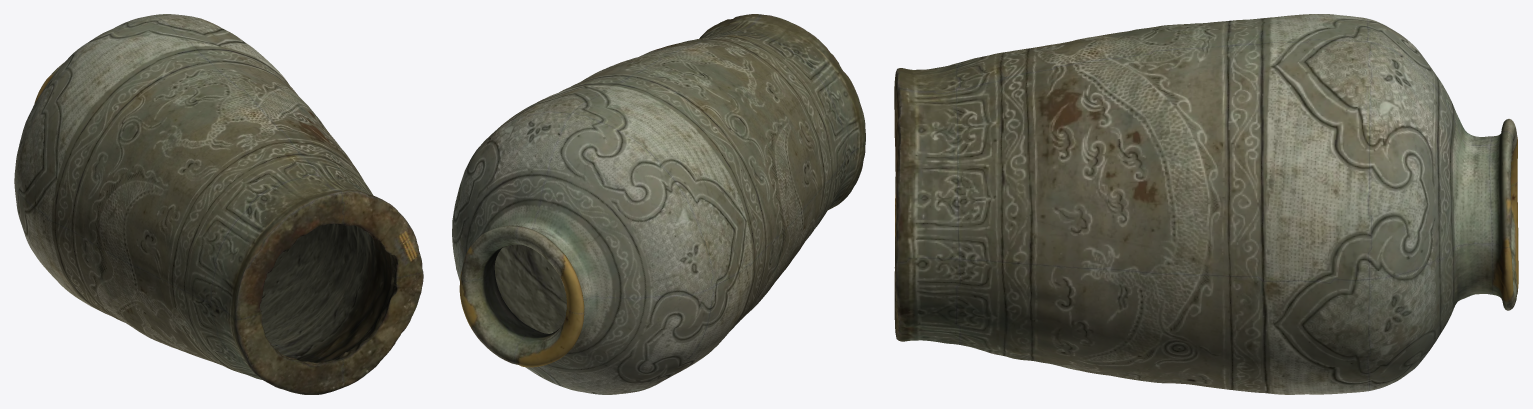
The model's file is nmk-1160.glb.
The picture shows the model from 3 angles, left to right: view 1: azimuth 30°, elevation 25°; view 2: azimuth 150°, elevation 25°; view 3: azimuth 270°, elevation 25°; orthographic projection. The views are drawn at different scales.
Parts seen in each view (by area): view 1: duk002411-000-30000; view 2: duk002411-000-30000; view 3: duk002411-000-30000.
Part boxes in pixels (x1,y1,x2,y2): duk002411-000-30000: [14, 14, 423, 394]; duk002411-000-30000: [452, 14, 865, 394]; duk002411-000-30000: [894, 14, 1518, 394].
Bounding box in the file's own units: 0.9175 × 0.9255 × 1.52.
1 material, 1 textured.
